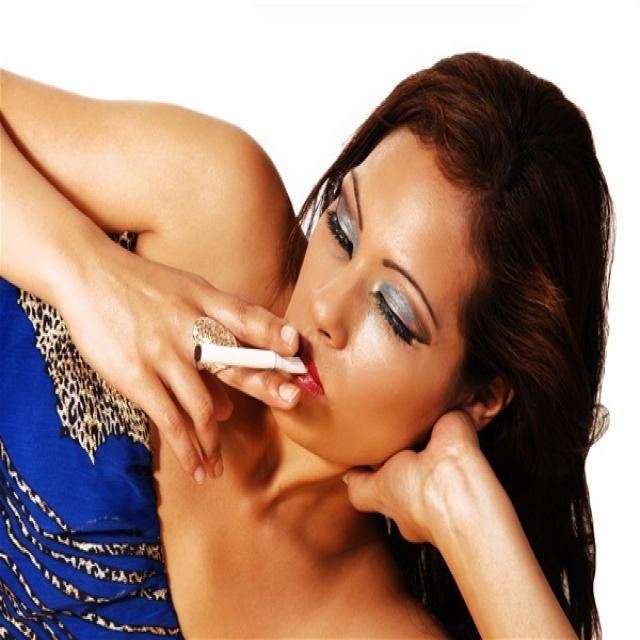smoking: (193, 342, 310, 374)
